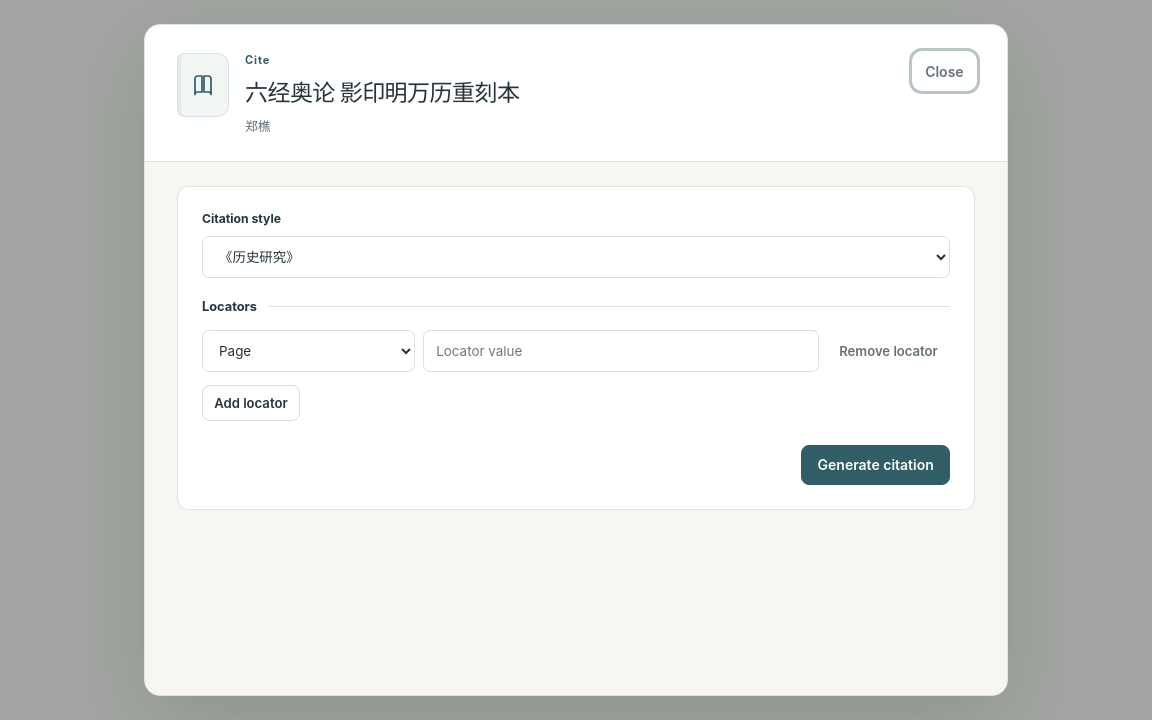
Scenario: CitationDialog › fails locally when a custom locator has no explicit label
Select "Custom locator" in the dropdown named "Locator type": (309, 351) [202, 330, 415, 372]
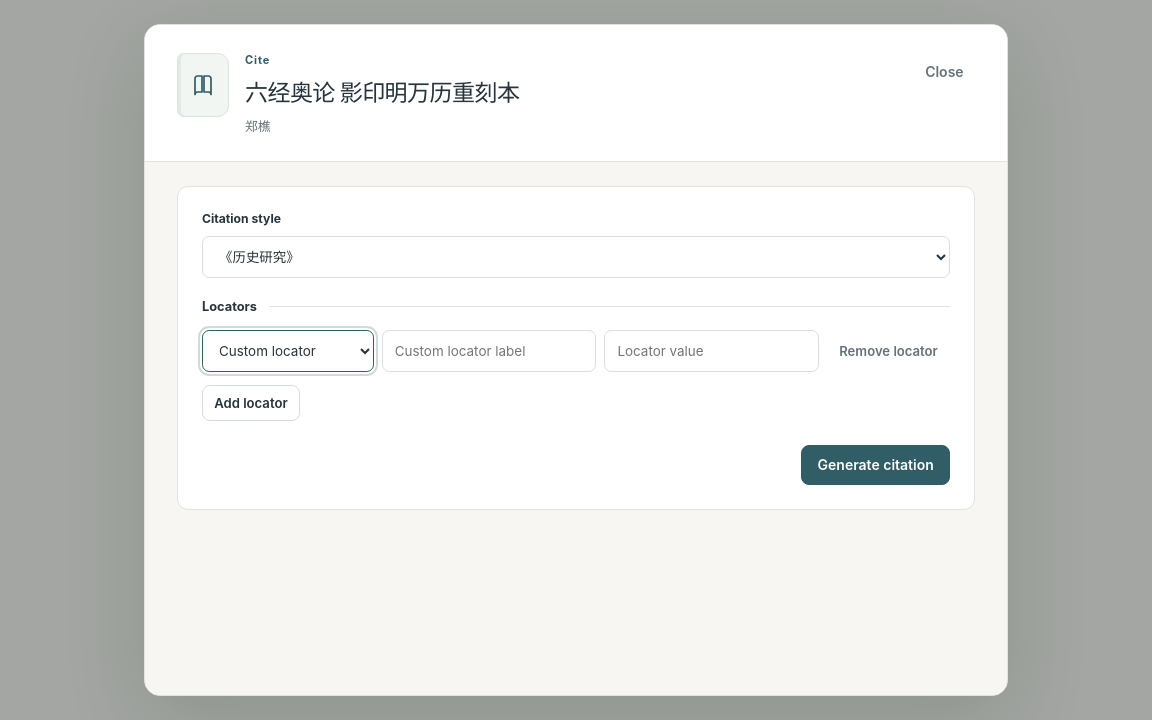
In the field labelled "Locator value": (712, 351) [604, 330, 819, 372], type "函三"
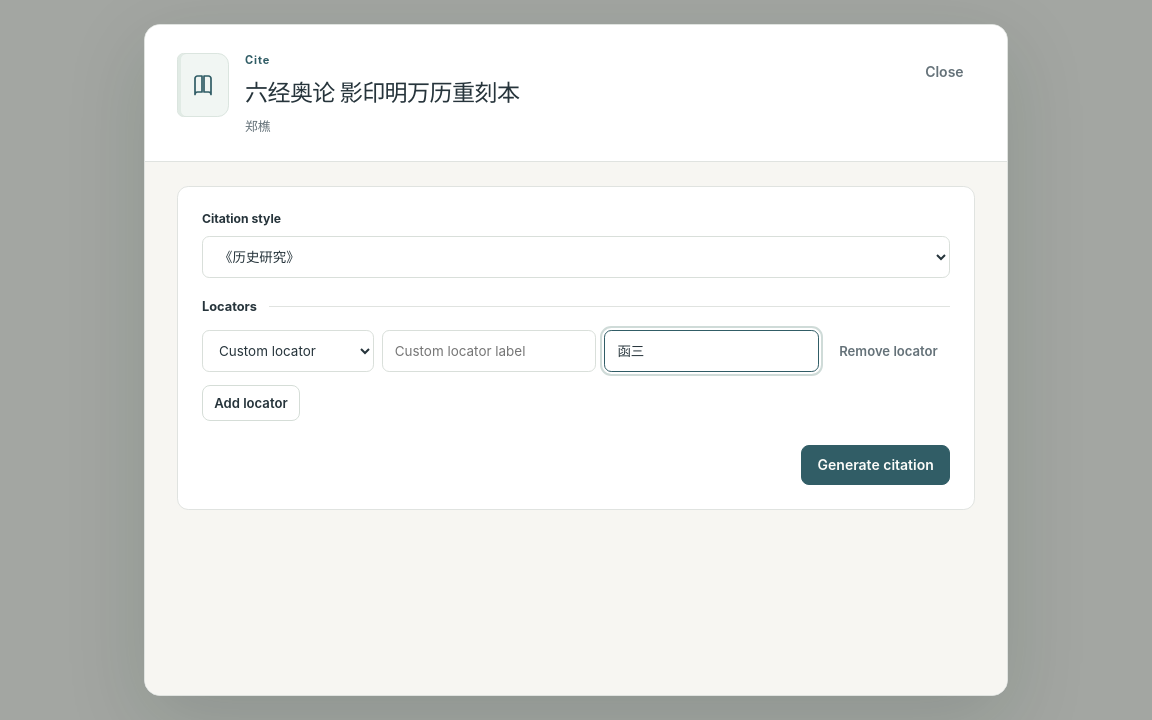
Click the button "Generate citation": (876, 464) [801, 444, 950, 484]
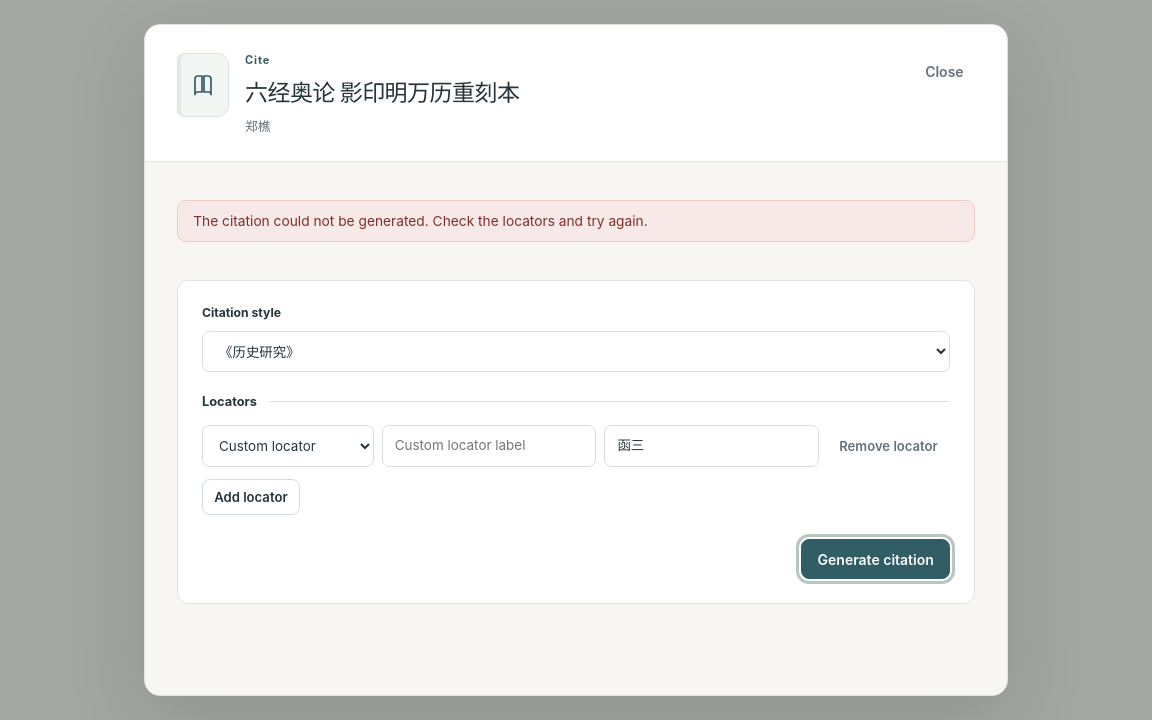
Check: the message shows "could not be generated", box [193, 213, 648, 229]
